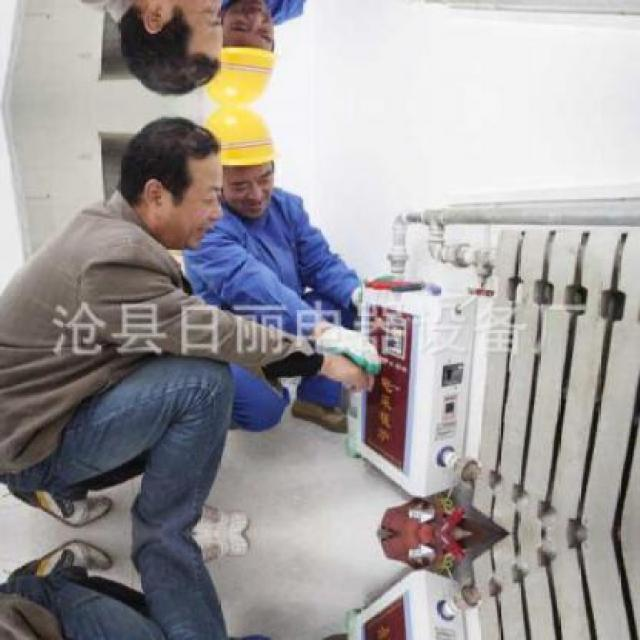hat: (200, 108, 285, 171)
